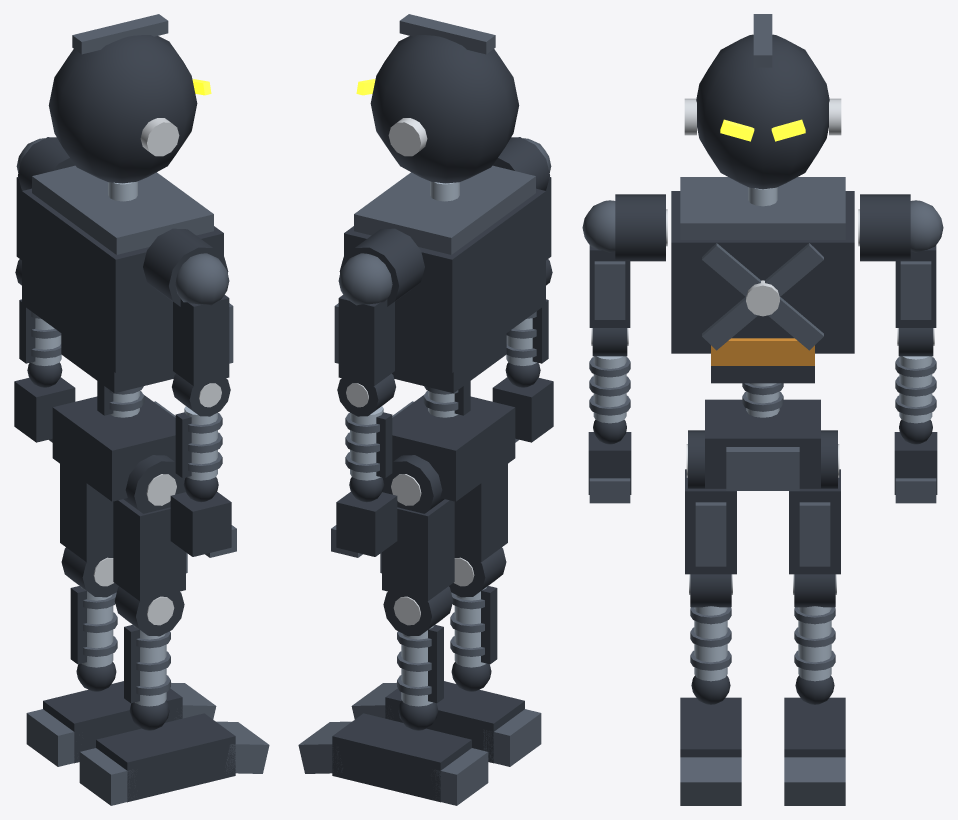
The model's file is body.glb.
3 views of the same model, side by side, from view 1: azimuth 30°, elevation 25°; view 2: azimuth 150°, elevation 25°; view 3: azimuth 270°, elevation 25° (orthographic). The views are drawn at different scales.
Parts seen in each view (by area): view 1: chest, head, foot_R, hips, leg_R, foot_L, arm_R, shin_R, shin_L, forearm_R, leg_L, hand_R (+3 smaller); view 2: chest, head, foot_L, hips, leg_L, foot_R, arm_L, shin_L, shin_R, forearm_L, leg_R, hand_L (+3 smaller); view 3: chest, head, hips, foot_L, foot_R, leg_L, leg_R, shin_L, shin_R, arm_L, arm_R, forearm_L (+3 smaller).
Part boxes in pixels (x1,y1,x2,y2): chest: [18, 137, 228, 417]; head: [48, 14, 211, 183]; foot_R: [79, 713, 269, 805]; hips: [52, 394, 175, 501]; leg_R: [113, 455, 187, 601]; foot_L: [26, 681, 216, 766]; arm_R: [173, 253, 233, 385]; shin_R: [114, 586, 184, 730]; shin_L: [61, 547, 118, 691]; forearm_R: [172, 373, 230, 502]; leg_L: [60, 464, 113, 562]; hand_R: [170, 492, 236, 557]; chest: [339, 137, 549, 417]; head: [356, 14, 519, 183]; foot_L: [298, 713, 488, 805]; hips: [392, 394, 515, 501]; leg_L: [380, 455, 454, 601]; foot_R: [351, 681, 541, 766]; arm_L: [334, 253, 394, 385]; shin_L: [383, 586, 453, 730]; shin_R: [449, 547, 506, 691]; forearm_L: [337, 373, 395, 502]; leg_R: [454, 464, 507, 562]; hand_L: [331, 492, 397, 557]; chest: [615, 177, 910, 417]; head: [684, 14, 841, 189]; hips: [705, 399, 820, 490]; foot_L: [784, 697, 845, 805]; foot_R: [680, 697, 741, 805]; leg_L: [789, 430, 840, 574]; leg_R: [685, 430, 736, 574]; shin_L: [793, 574, 836, 704]; shin_R: [689, 574, 732, 704]; arm_L: [895, 200, 943, 327]; arm_R: [582, 200, 630, 327]; forearm_L: [895, 328, 936, 444].
Bounding box in the file's own units: 0.3133 × 1.3 × 0.59.
